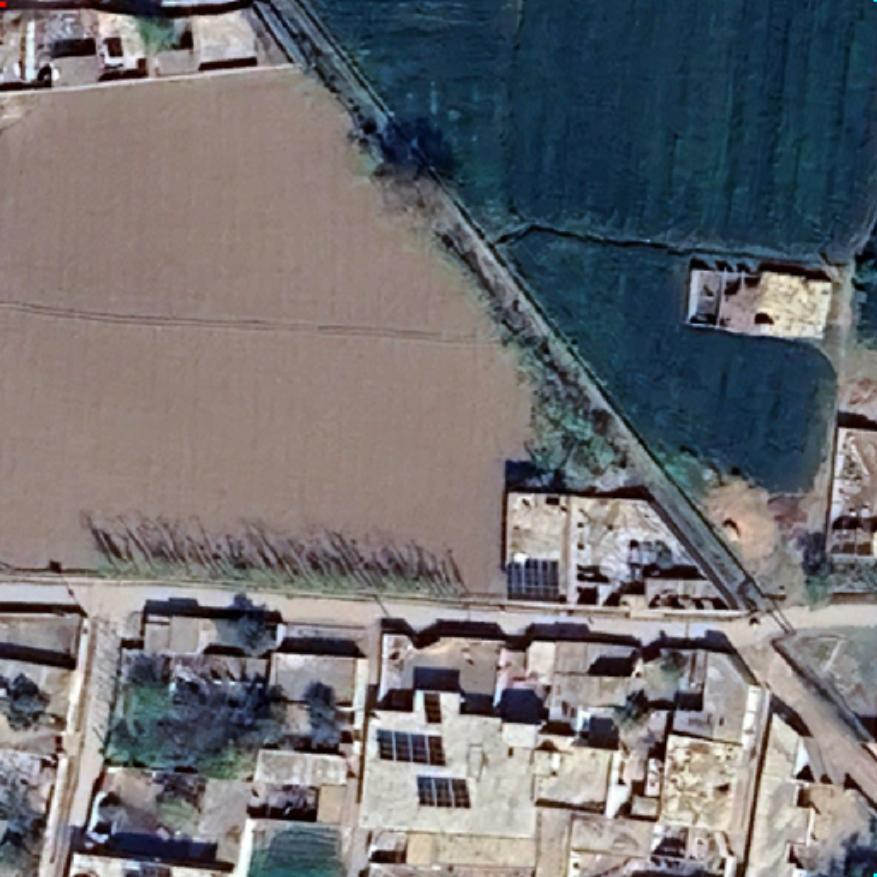Solarpanel: (372, 725, 450, 769), (502, 553, 566, 605), (412, 770, 475, 812), (418, 688, 446, 726)
